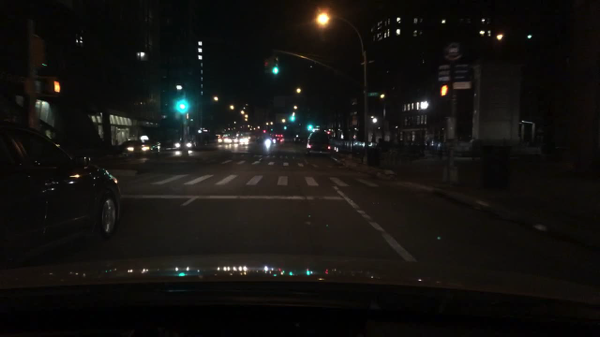car: (0, 120, 122, 268), (125, 134, 161, 154), (305, 130, 331, 157), (174, 135, 197, 150), (264, 138, 275, 147), (239, 137, 251, 144), (293, 135, 303, 143), (276, 135, 286, 142), (228, 138, 238, 144), (217, 140, 228, 144)
traffic light: (32, 34, 45, 68), (47, 74, 62, 95), (24, 79, 42, 95), (439, 83, 453, 100), (272, 55, 279, 74), (176, 100, 187, 112), (263, 57, 270, 73), (305, 124, 313, 132), (370, 117, 378, 125), (288, 115, 296, 122)
traffic sign: (453, 64, 469, 88), (443, 39, 461, 59), (436, 64, 451, 80), (367, 91, 380, 97)
